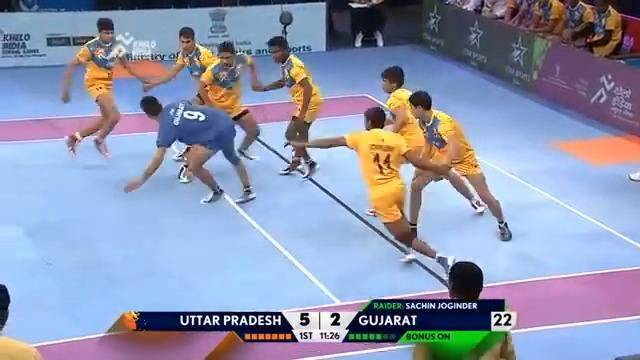Player: (286, 105, 462, 280), (373, 64, 489, 219), (406, 89, 512, 241), (60, 16, 150, 158), (142, 26, 219, 182), (187, 40, 284, 161), (411, 260, 516, 359), (363, 64, 425, 217), (265, 35, 323, 179), (142, 26, 218, 103)
Raider: (122, 94, 257, 205)
referee: (347, 0, 387, 48), (0, 283, 10, 334)
